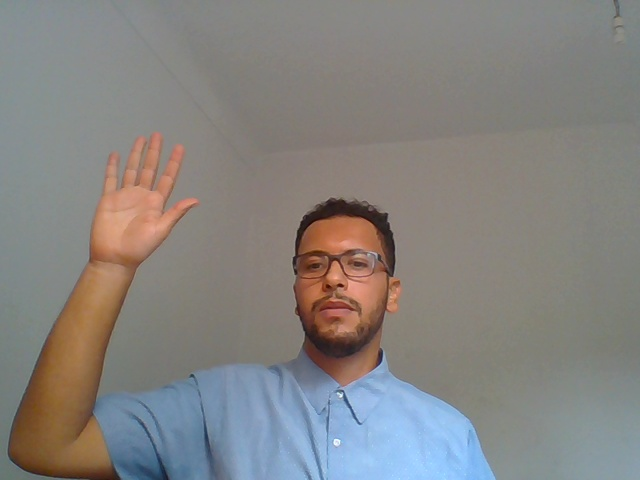hello: (44, 100, 211, 402)
